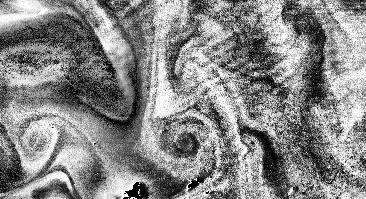CE: (155, 113, 217, 170), (17, 115, 61, 163)
